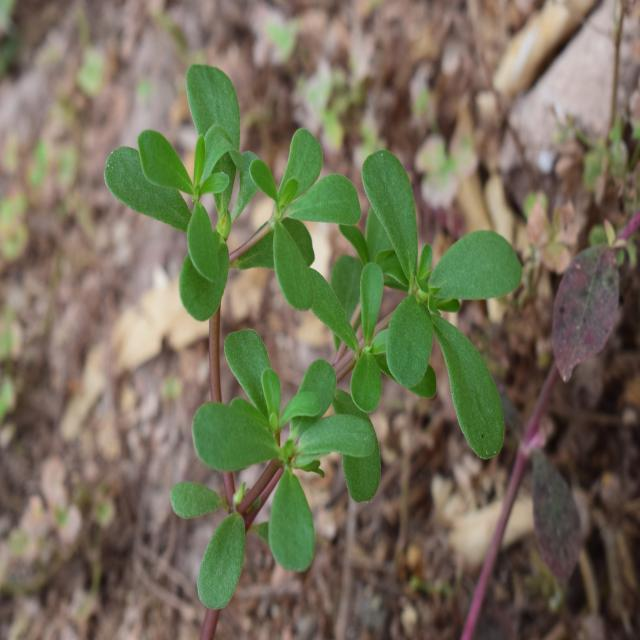purslane: (106, 66, 510, 589)
